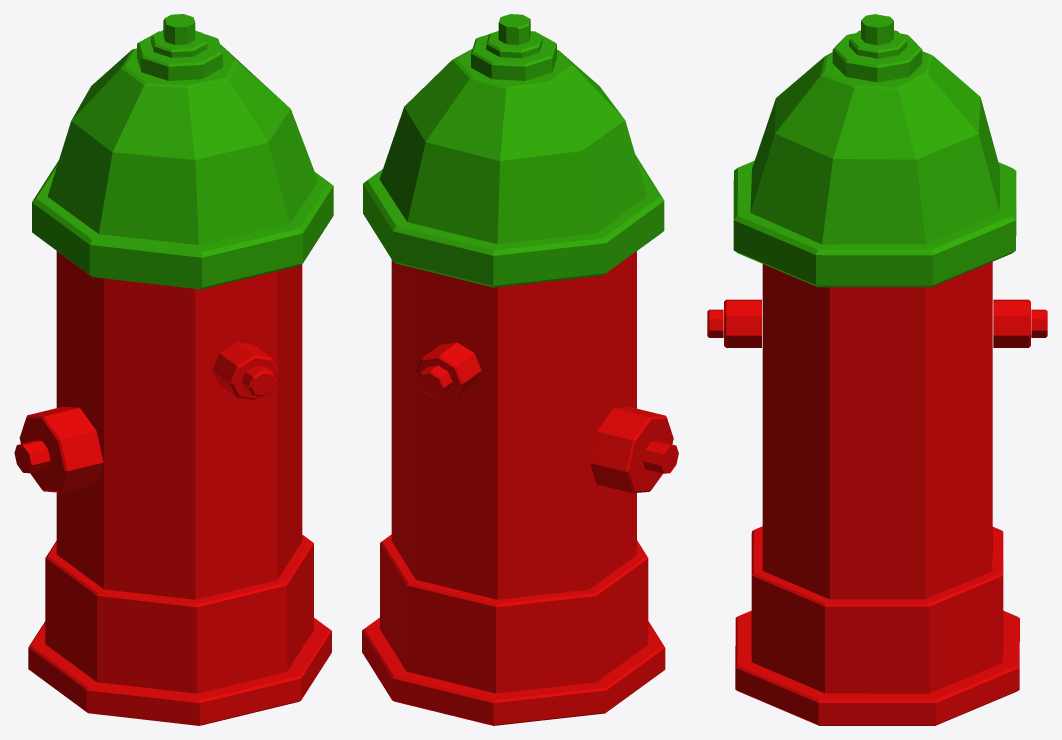
Rendered from FireHydrant.fbx.
3 views of the same model, side by side, from view 1: azimuth 30°, elevation 25°; view 2: azimuth 150°, elevation 25°; view 3: azimuth 270°, elevation 25° (orthographic).
Visible parts, largest first — view 1: pCylinder35; view 2: pCylinder35; view 3: pCylinder35.
Part boxes in pixels (<box>): pCylinder35: <box>14,14,333,725</box>; pCylinder35: <box>362,14,678,725</box>; pCylinder35: <box>707,14,1047,725</box>.
Bounding box in the file's own units: 0.4638 × 1.02 × 0.4861.
